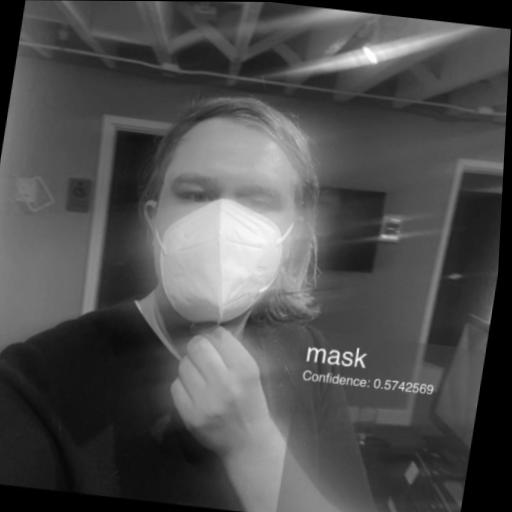mask: (105, 82, 339, 350)
